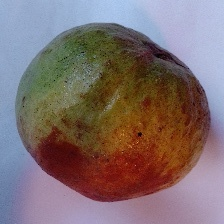guava: (36, 51, 201, 216)
